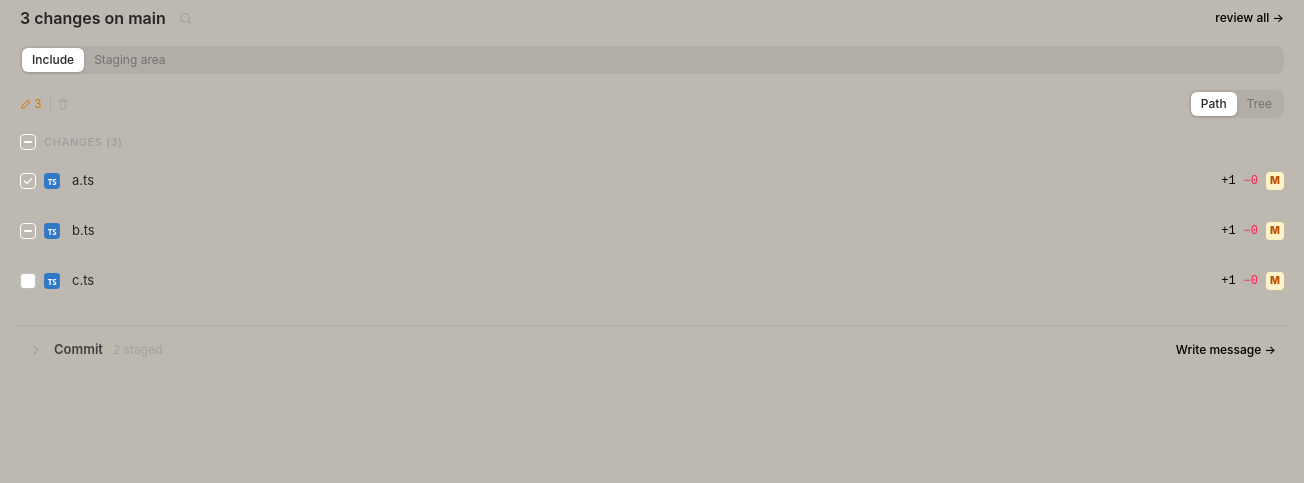
Test case: WorkingInspector — Include view › switches to the Staging area sections without touching the index
Click the button "Staging area" at (130, 60), box [84,48,176,72]
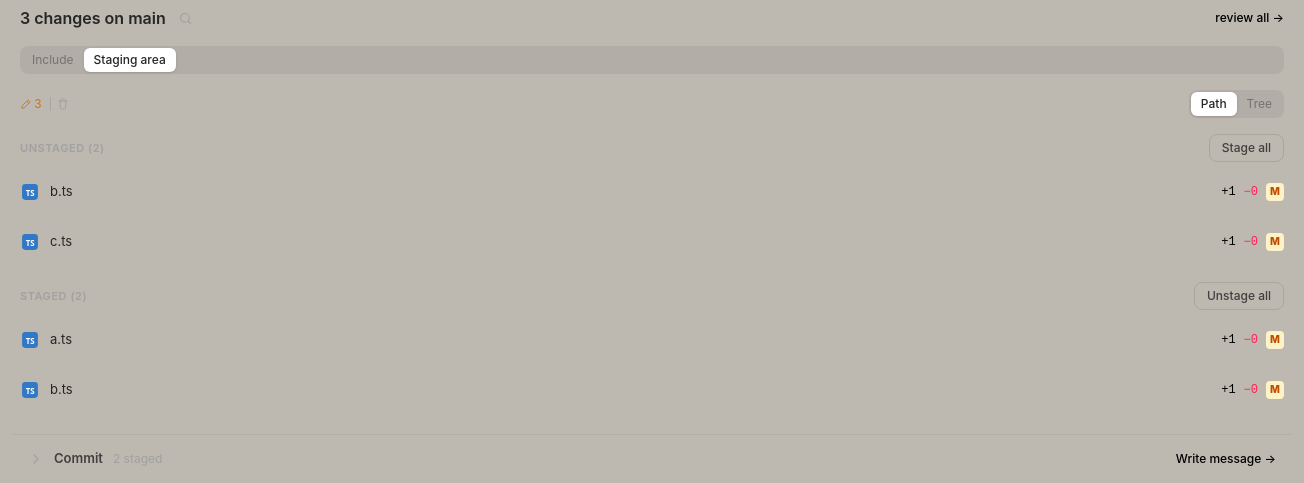
expect the text "Unstaged (2)" is shown: met, box [20,140,105,156]
expect the text "Staged (2)" is shown: met, box [20,288,87,304]
